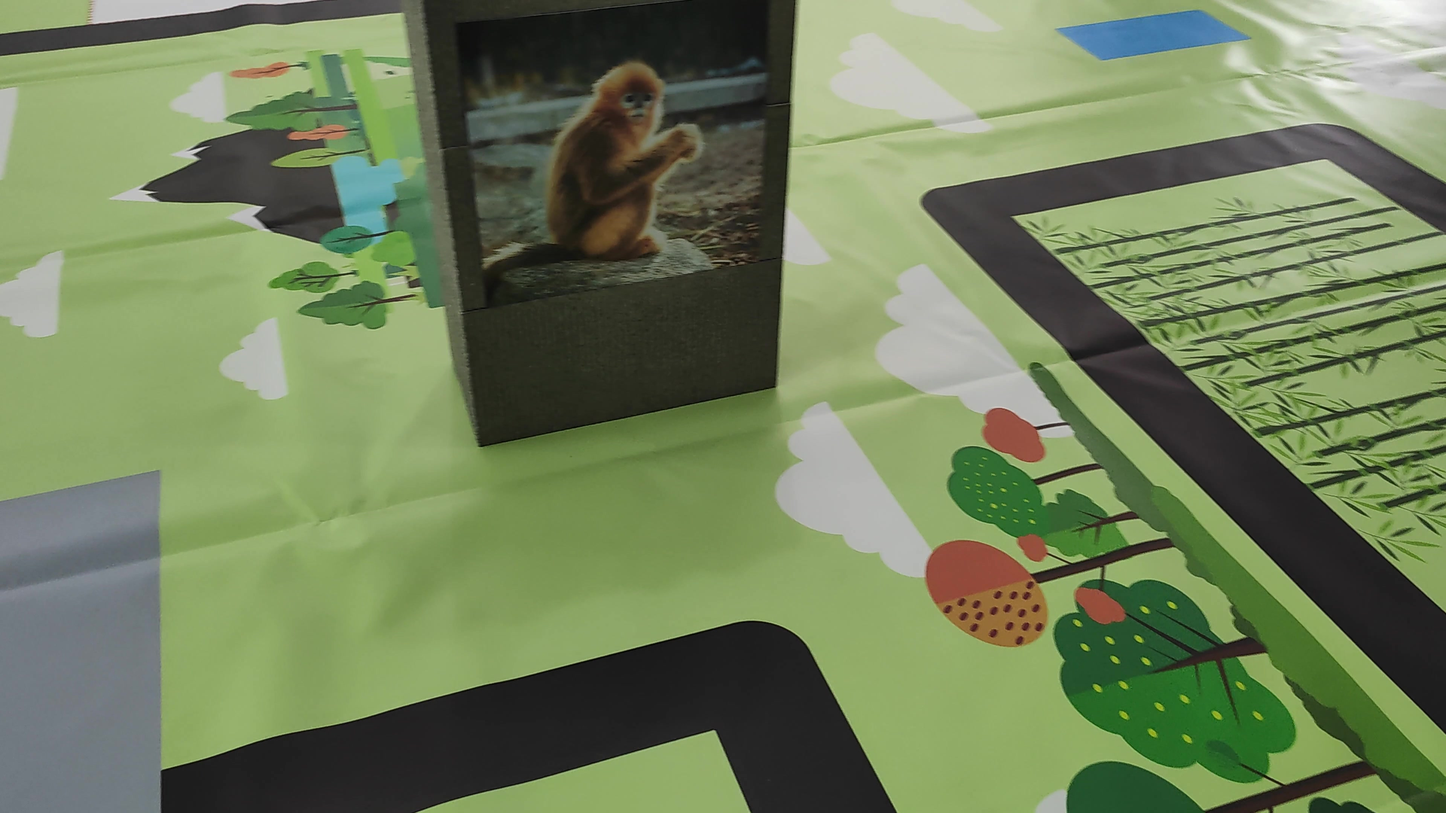monkey: (462, 49, 738, 291)
